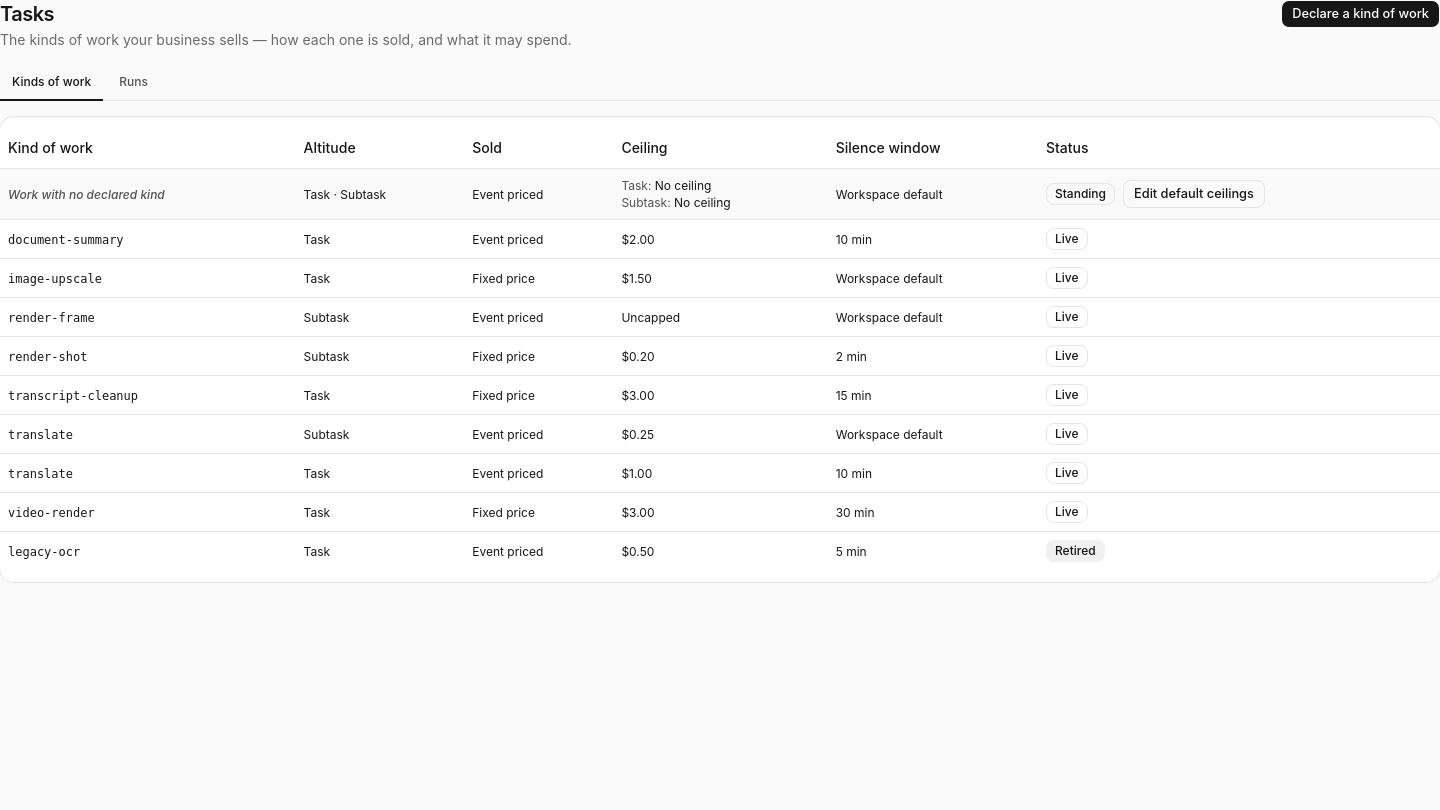
Test: TasksPage › refuses a default ceiling of zero, as the route does
Expected: the link "video-render" is shown, [8, 506, 95, 520]
Click the button "Edit default ceilings". click: (1194,194)
box: [1123, 180, 1265, 208]
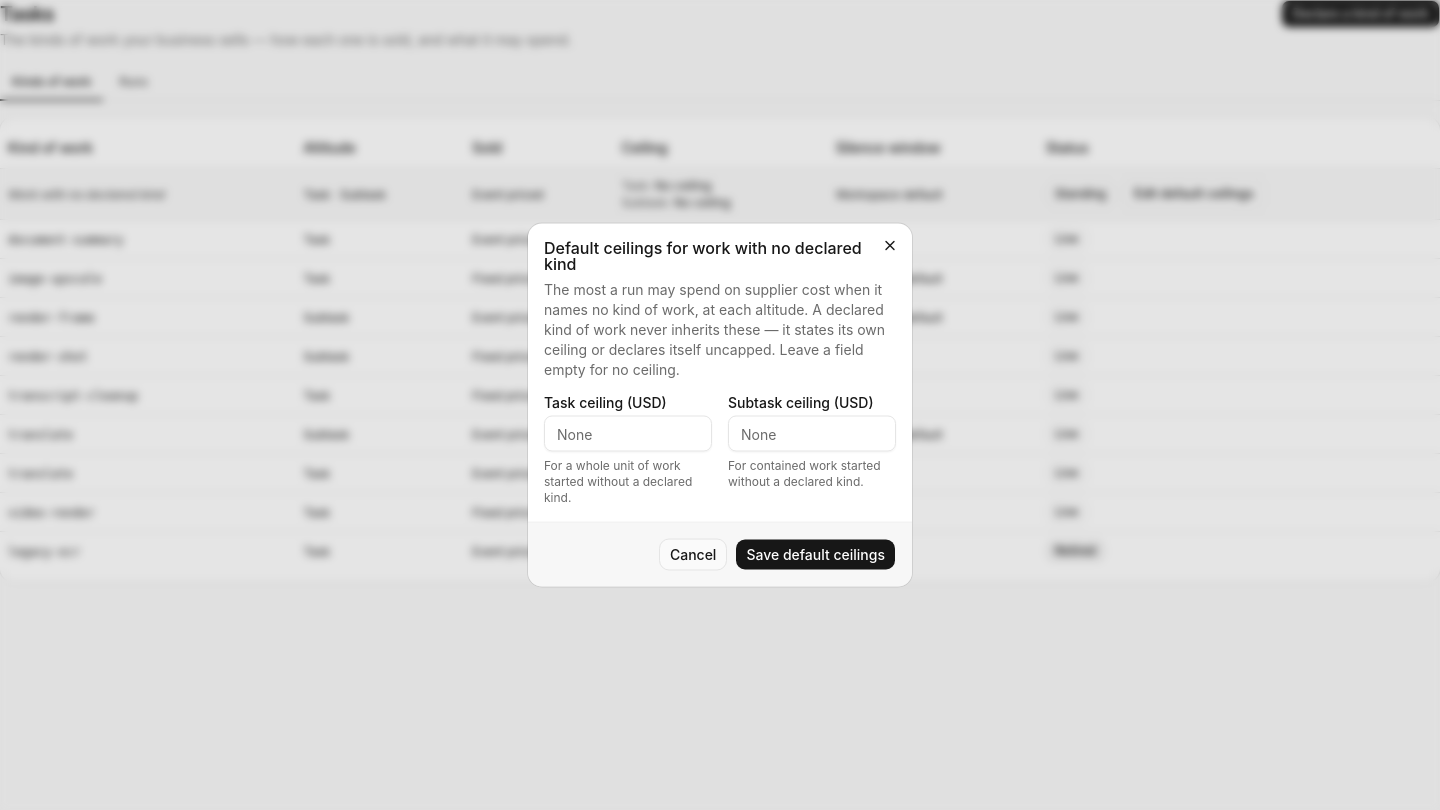
Type "0" into the field labelled "Task ceiling (USD)". click: (628,434)
box: [544, 416, 712, 452]
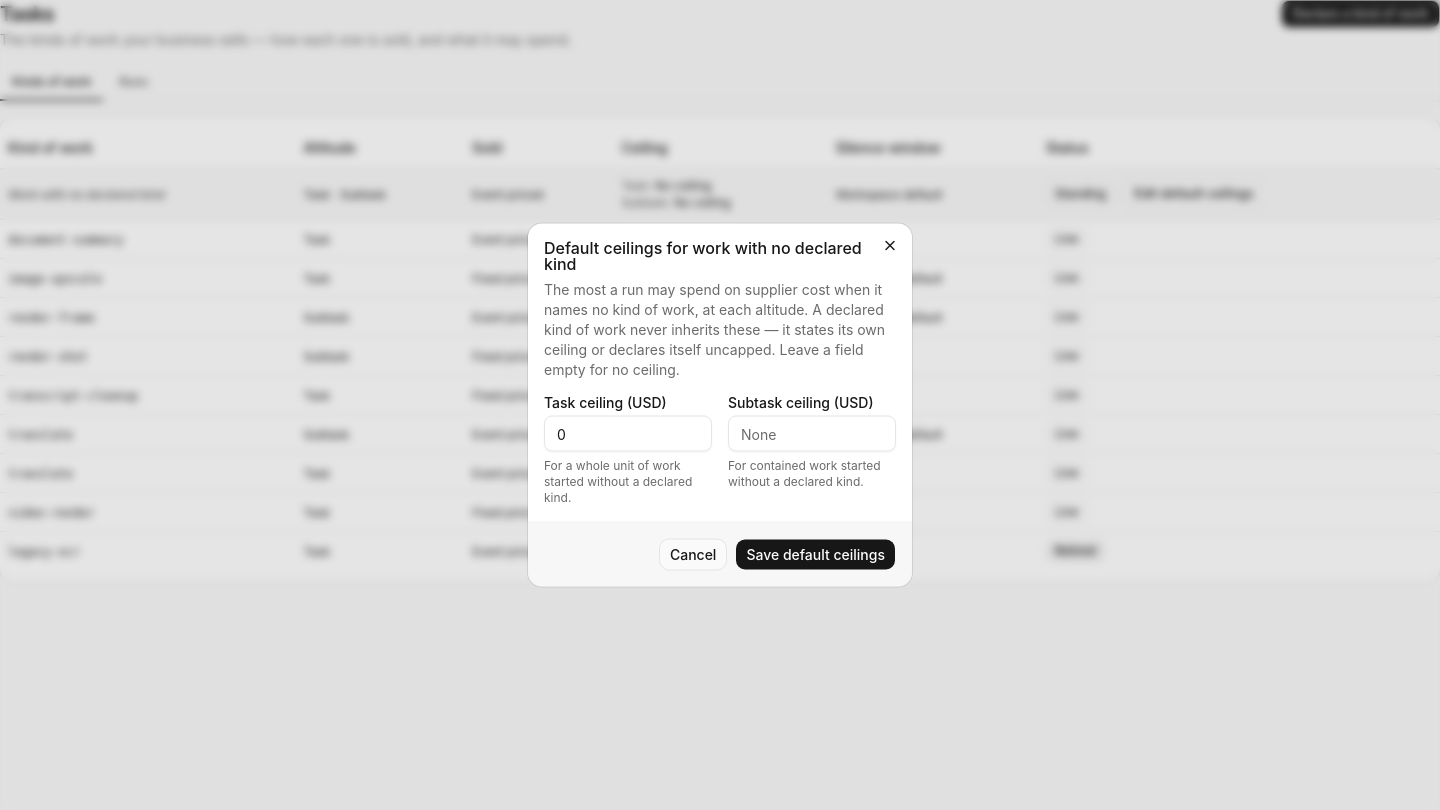
Click the button "Save default ceilings". click: (816,554)
box: [735, 538, 896, 570]
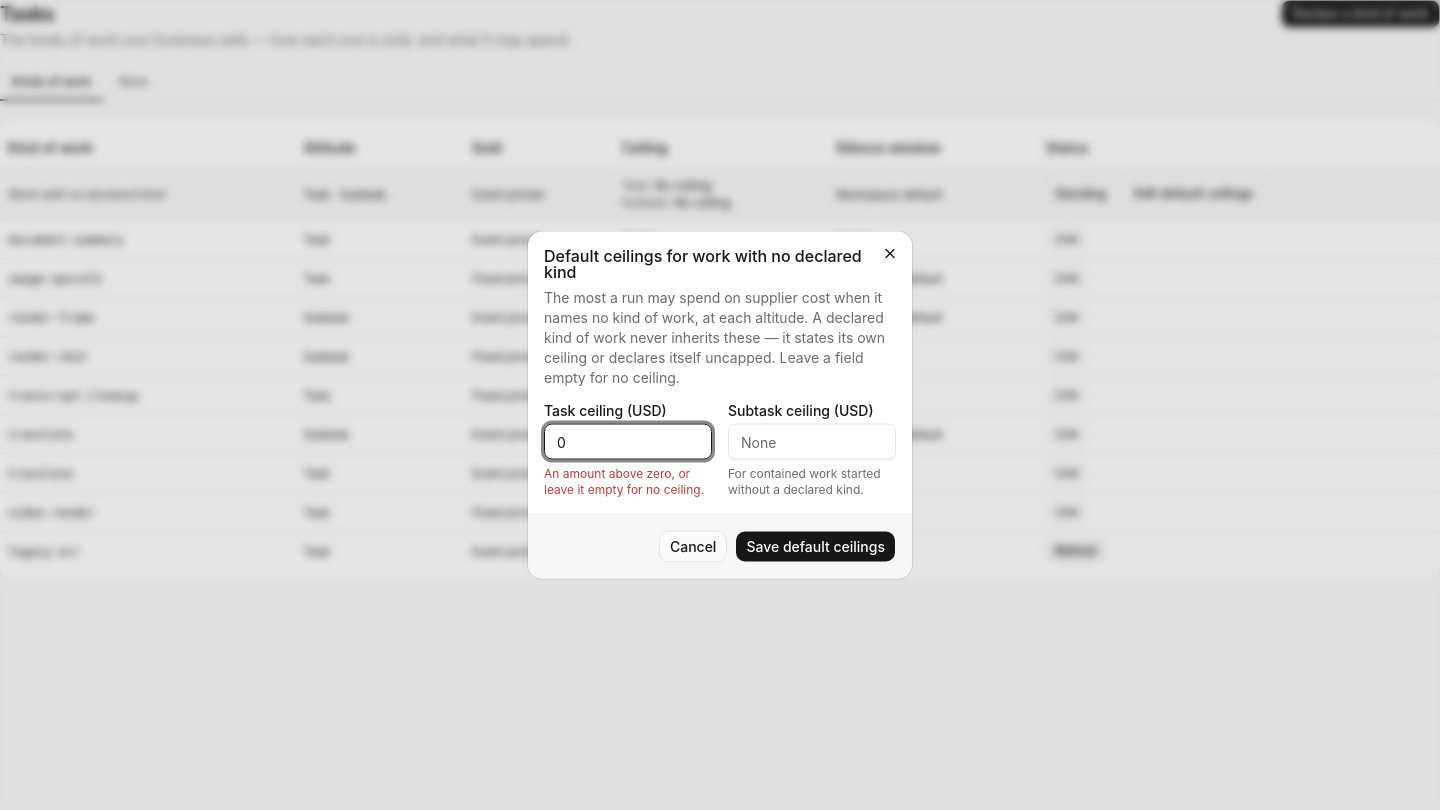
Now the text "An amount above zero, or leave it empty for no ceiling." is shown, box [544, 466, 712, 498]
